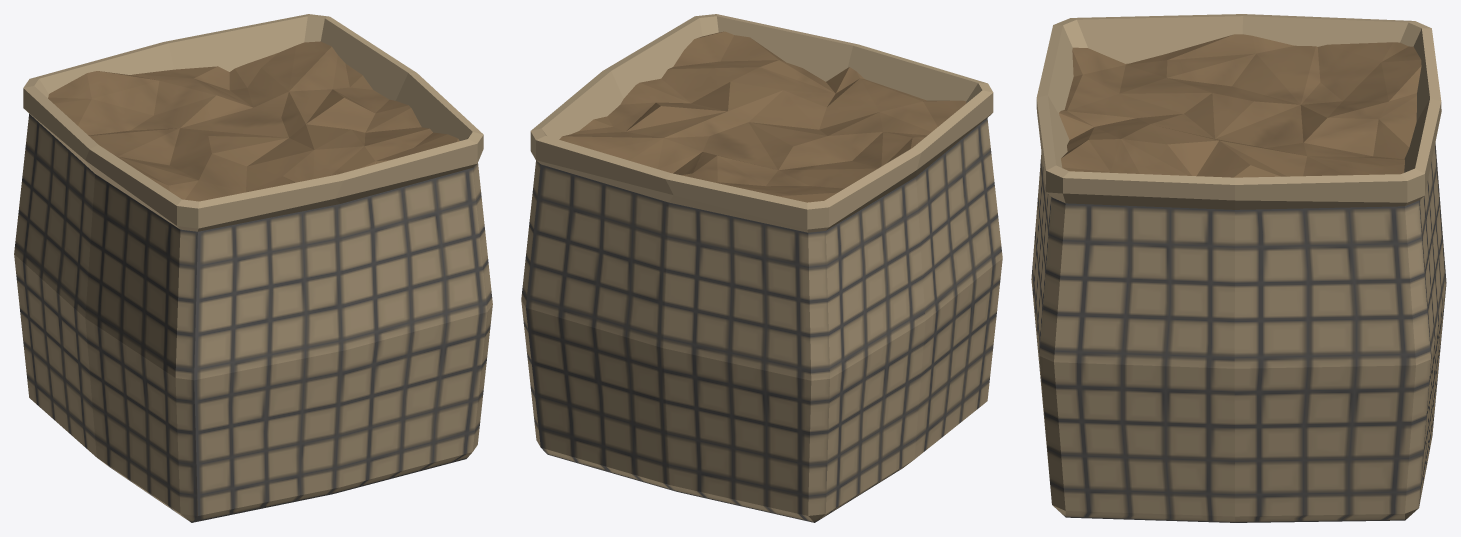
File: SM_Prop_Barrier_Base_Single_02.fbx
The picture shows the model from 3 angles, left to right: view 1: azimuth 30°, elevation 25°; view 2: azimuth 150°, elevation 25°; view 3: azimuth 270°, elevation 25°; orthographic projection. The views are drawn at different scales.
Parts seen in each view (by area): view 1: SM_Prop_Barrier_Base_Single_02; view 2: SM_Prop_Barrier_Base_Single_02; view 3: SM_Prop_Barrier_Base_Single_02.
Boxes of the visible parts, left/top/right/bottom form: SM_Prop_Barrier_Base_Single_02: left=14, top=14, right=492, bottom=522; SM_Prop_Barrier_Base_Single_02: left=521, top=14, right=1002, bottom=522; SM_Prop_Barrier_Base_Single_02: left=1031, top=14, right=1446, bottom=522.
Size of the model in its own units: 115 by 107 by 115.
